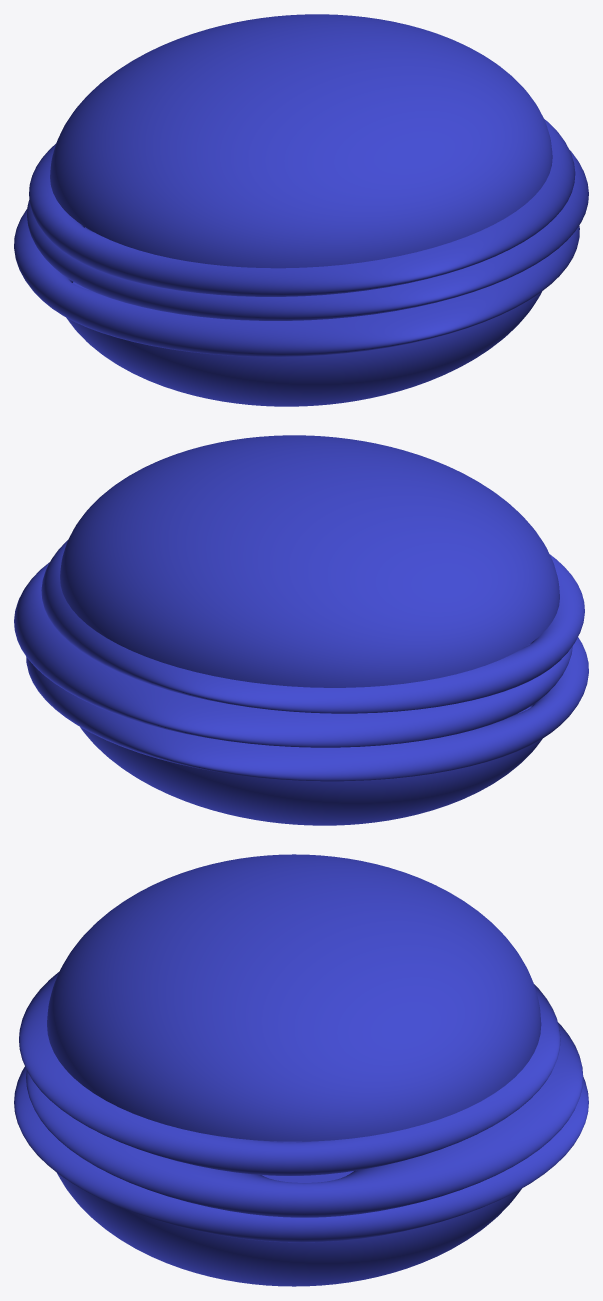
Rendered from hamburger.fbx.
The picture shows the model from 3 angles, top to bottom: view 1: azimuth 30°, elevation 25°; view 2: azimuth 150°, elevation 25°; view 3: azimuth 270°, elevation 25°; orthographic projection. The views are drawn at different scales.
Parts seen in each view (by area): view 1: root (×5); view 2: root (×5); view 3: root (×5).
Part boxes in pixels (left/top/right/bottom): root (×5): left=14, top=14, right=588, bottom=406; root (×5): left=14, top=435, right=588, bottom=825; root (×5): left=14, top=854, right=588, bottom=1286.
Size of the model in its own units: 0.5193 by 0.3067 by 0.4723.
